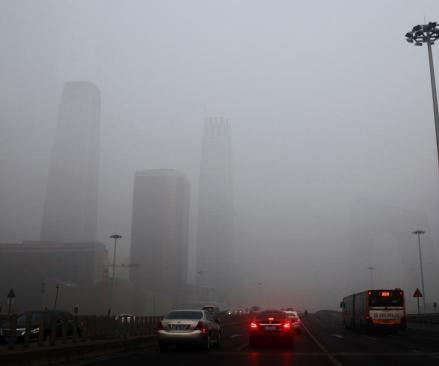bus: (339, 288, 405, 333)
car: (8, 308, 81, 344), (158, 308, 222, 349), (246, 309, 293, 346), (271, 308, 302, 334), (114, 313, 138, 325)
